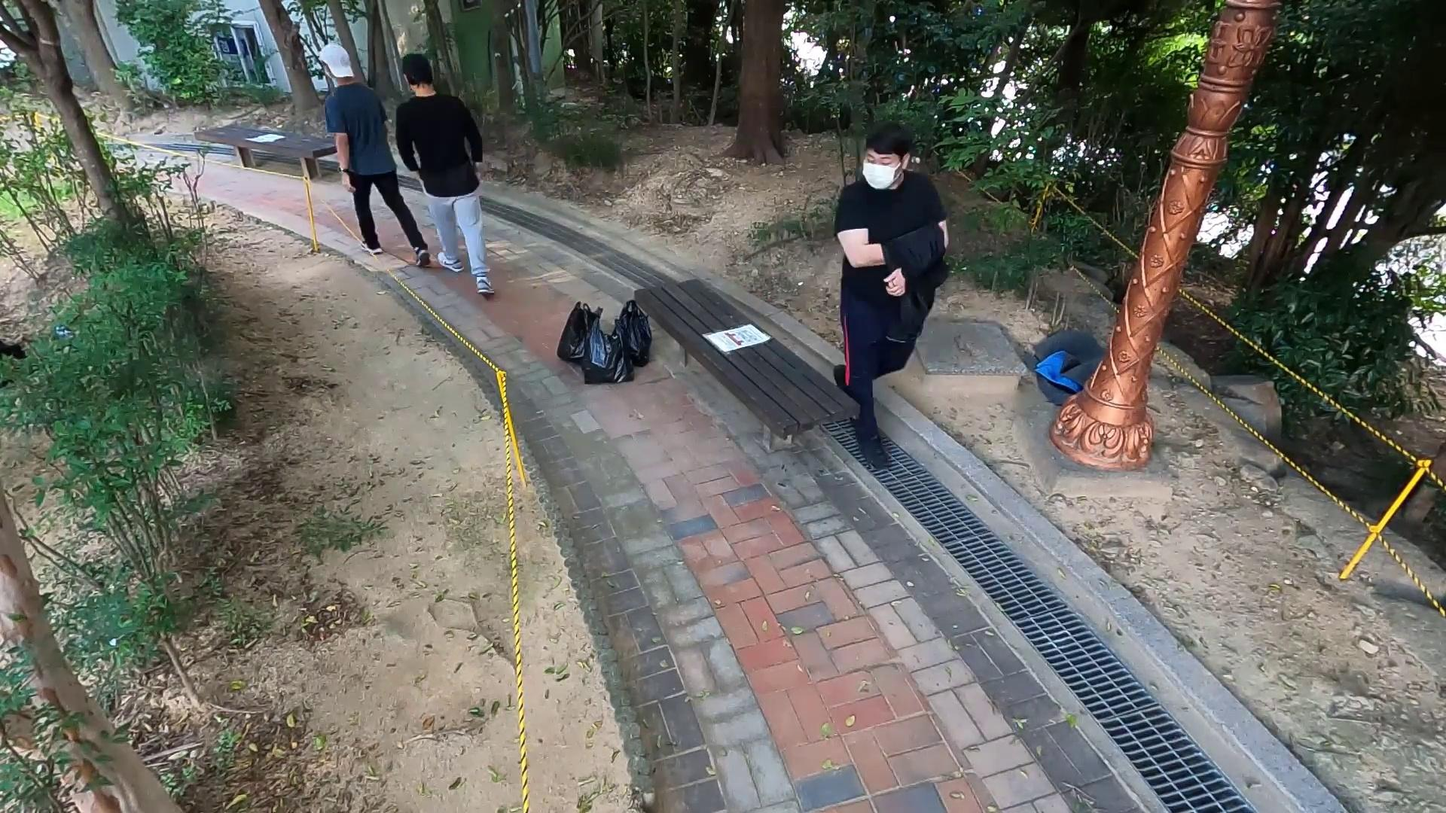person: (833, 125, 949, 473), (316, 39, 433, 271), (391, 49, 496, 296)
trash: (1022, 320, 1112, 407), (578, 317, 634, 385), (557, 300, 603, 362), (611, 300, 652, 364)
